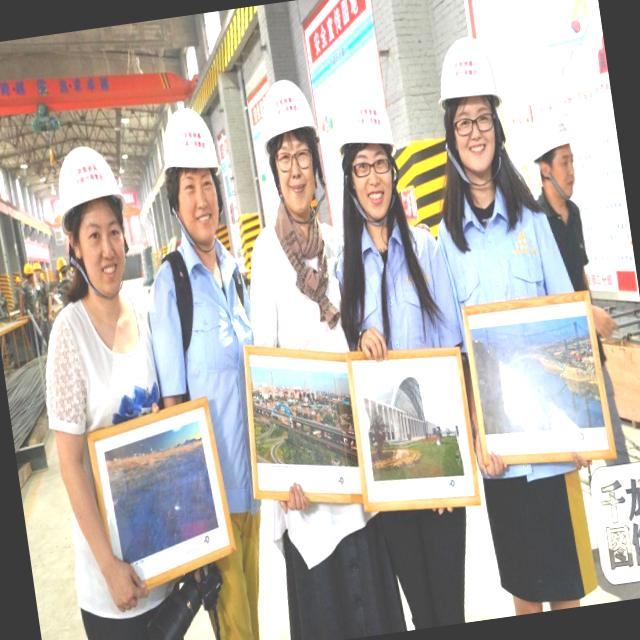helmet: (47, 134, 131, 230), (426, 28, 509, 119), (253, 74, 321, 168), (154, 108, 226, 186), (328, 79, 395, 158)
no-vest: (35, 298, 196, 626), (162, 234, 262, 498), (249, 196, 356, 391), (348, 222, 449, 368), (450, 200, 561, 322)
